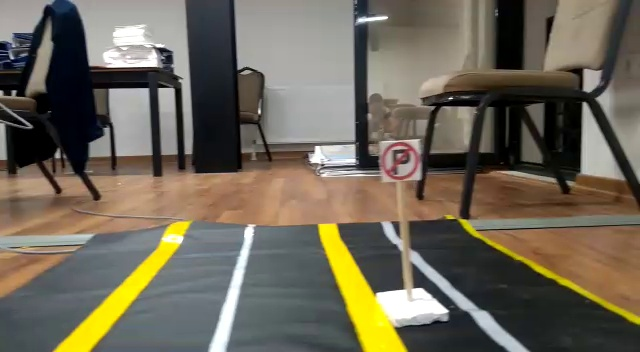park_yapilmaz: (379, 136, 420, 181)
